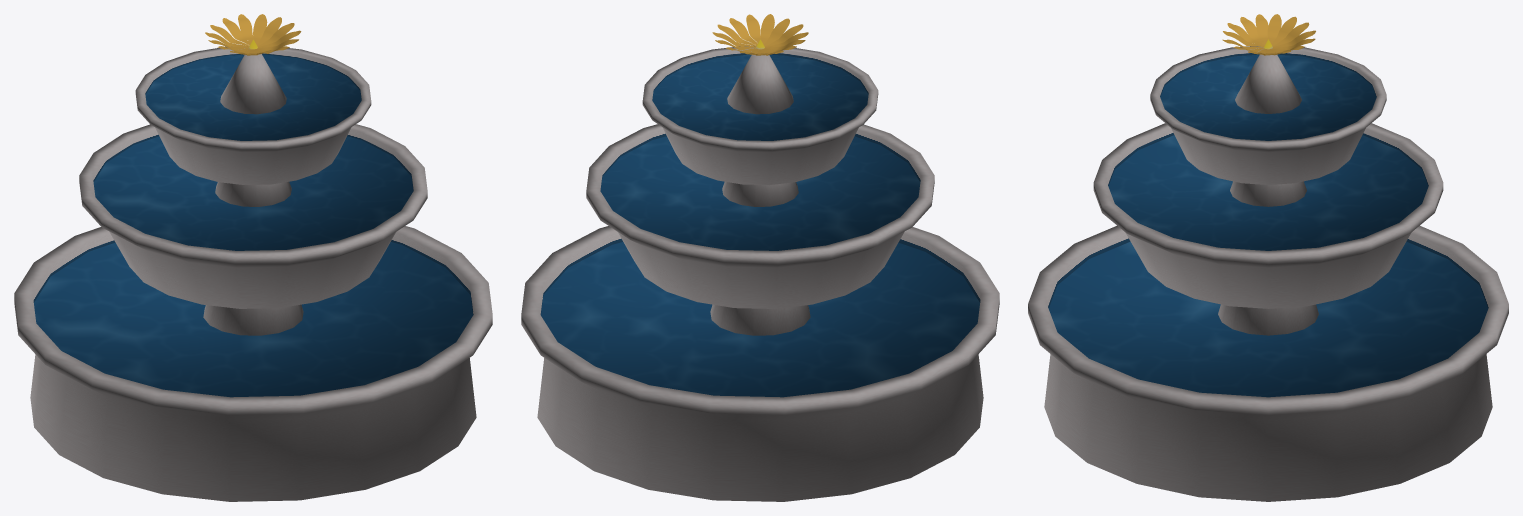
File: newFountain.fbx
3 renders of one model, left to right at view 1: azimuth 30°, elevation 25°; view 2: azimuth 150°, elevation 25°; view 3: azimuth 270°, elevation 25°, orthographic.
Parts seen in each view (by area): view 1: Circle.001; view 2: Circle.001; view 3: Circle.001.
Part boxes in pixels (left/top/right/bottom): Circle.001: left=14, top=14, right=492, bottom=501; Circle.001: left=521, top=14, right=999, bottom=501; Circle.001: left=1028, top=14, right=1508, bottom=501.
Size of the model in its own units: 531 by 455 by 531.
